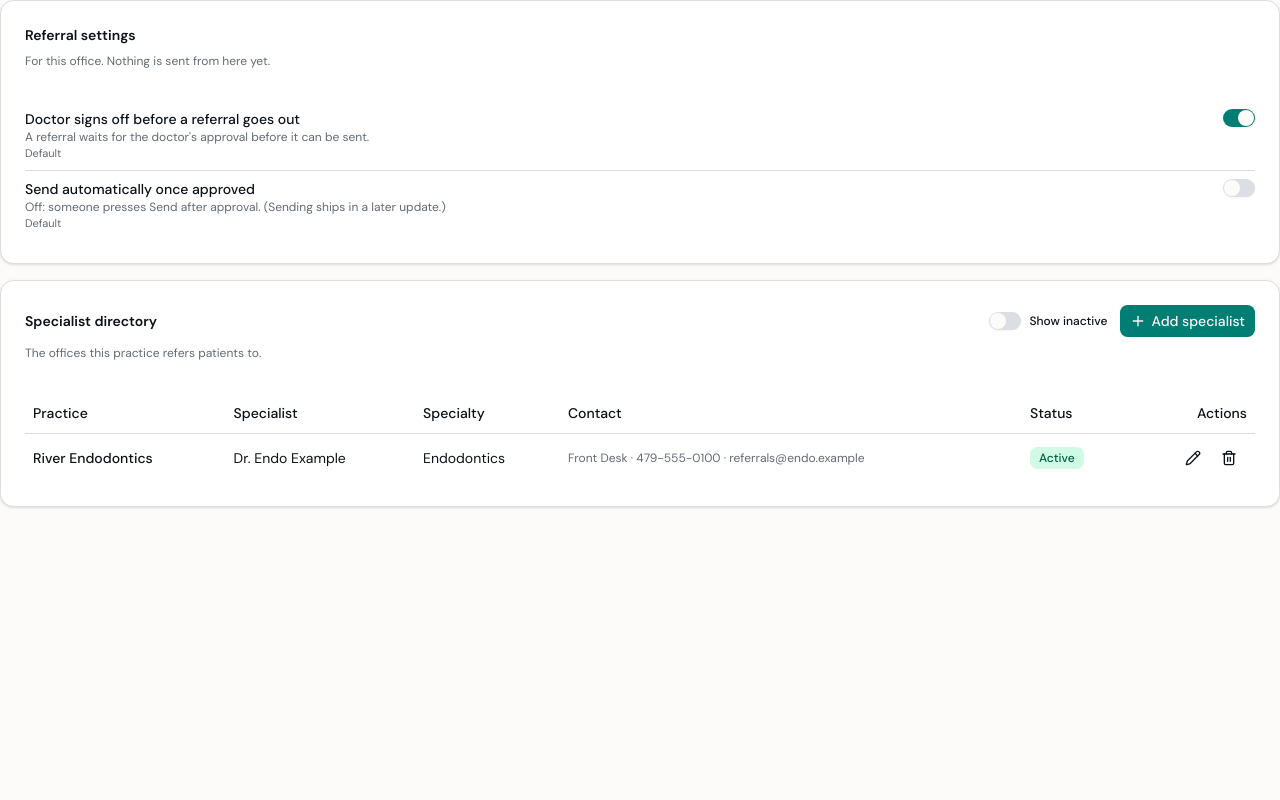
Test case: 1: the specialist directory › add: a practice name is required
Click the button "Add specialist" at [1187, 321], box [1120, 305, 1255, 337]
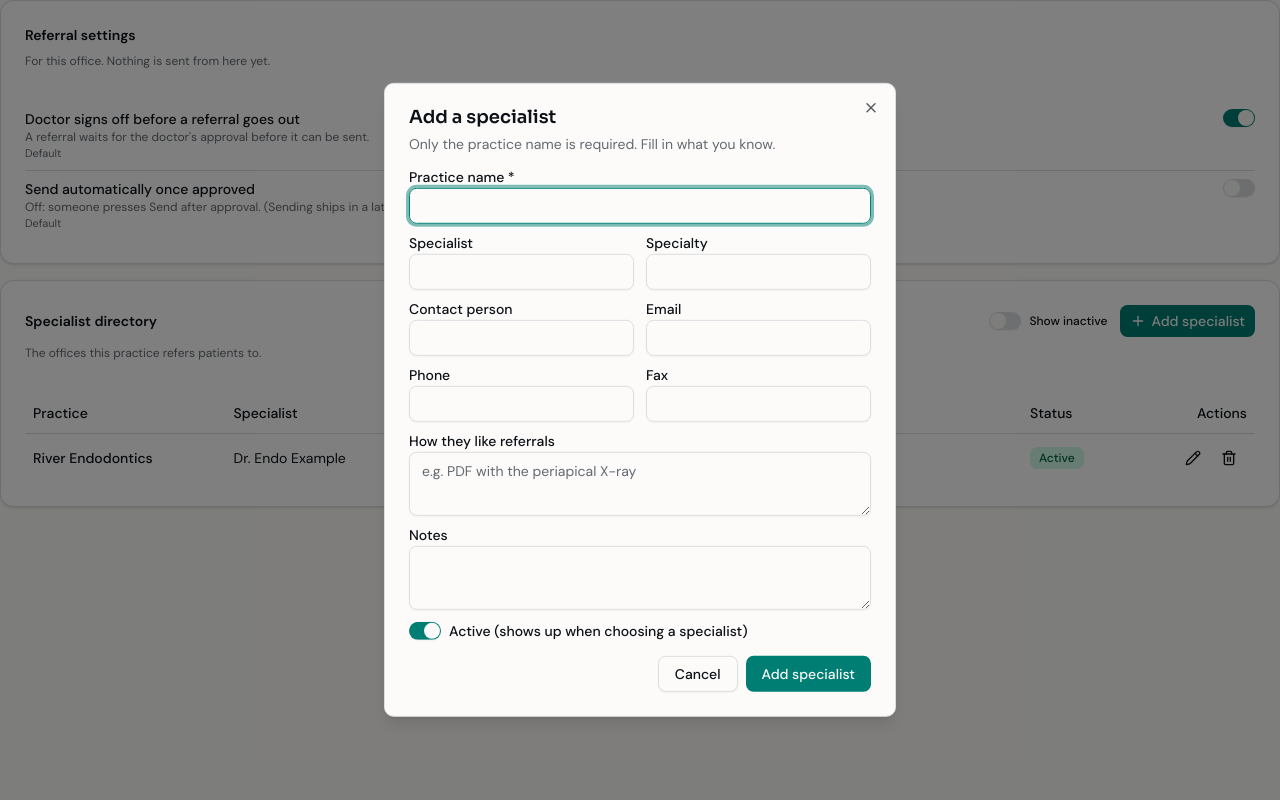
Click the button "Add specialist" at [808, 674], box [746, 656, 871, 692]
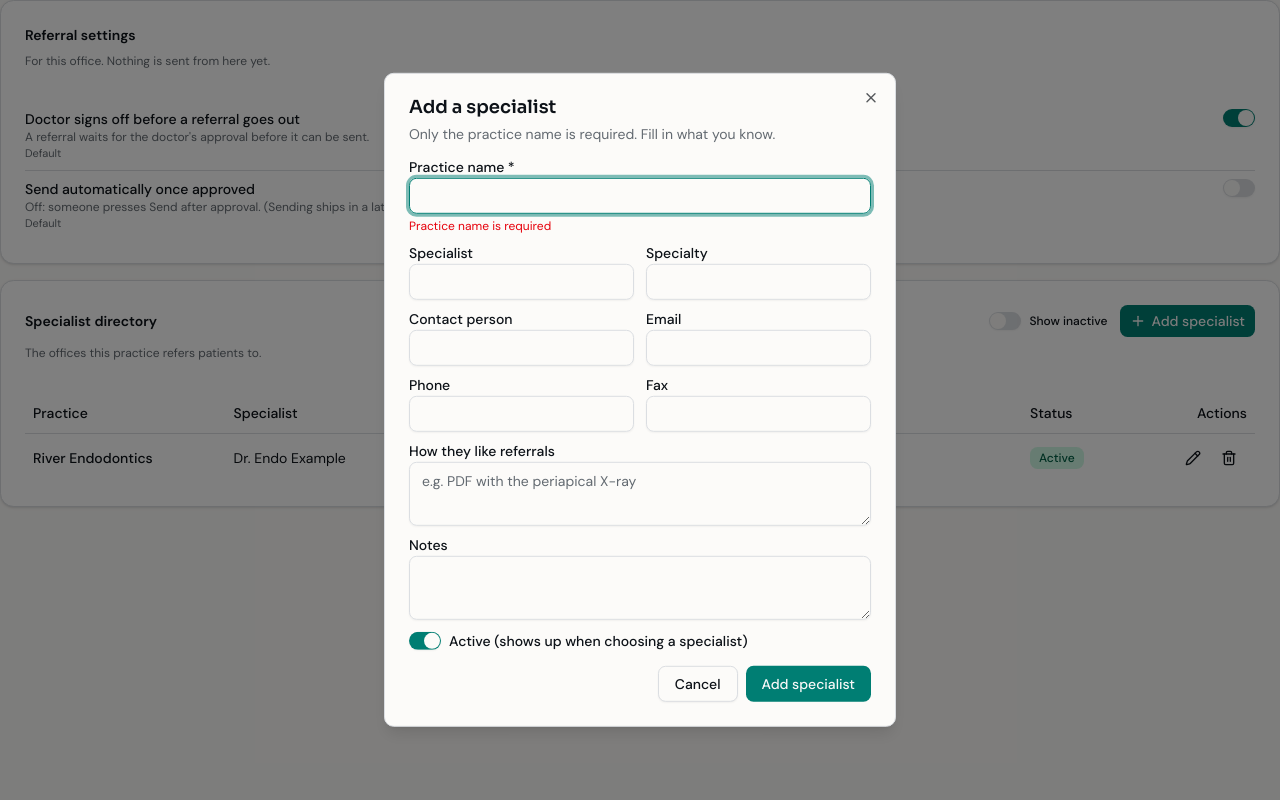
Result: the text "Practice name is required" is shown at [409, 218, 551, 234]
